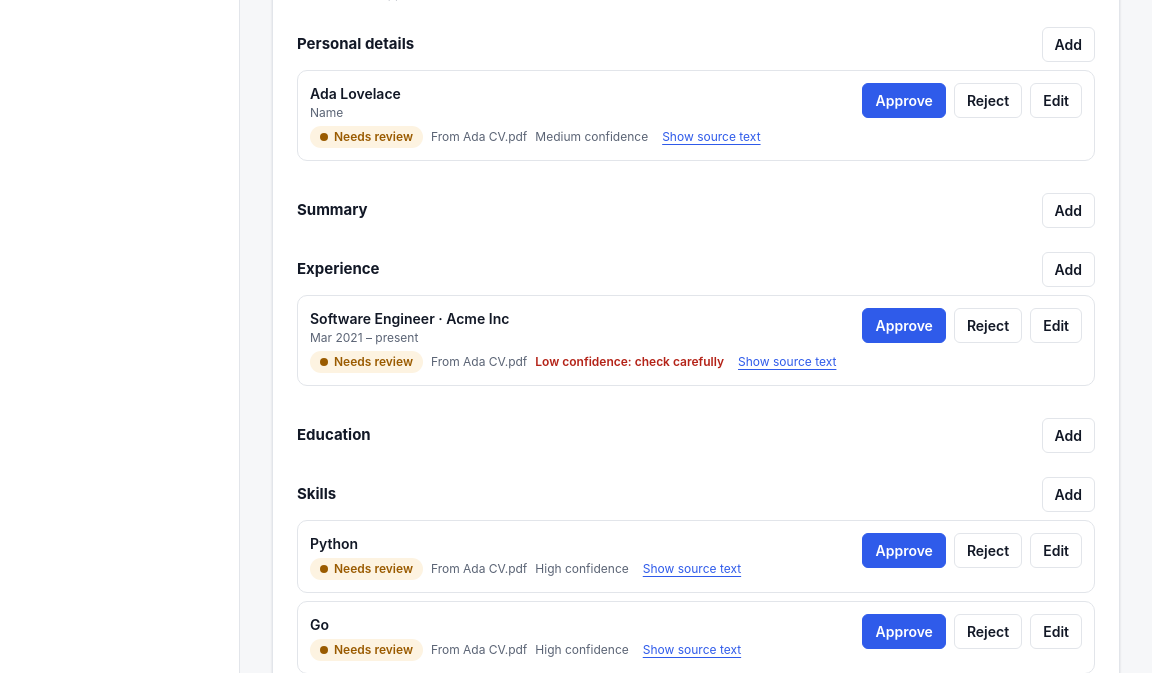
Test: career profile: review › edits a fact with validation, which approves it
(page scrolled)
Click the button with aria-label "Edit: Software Engineer · Acme Inc": click(1056, 326) 1030,308 -> 1082,343
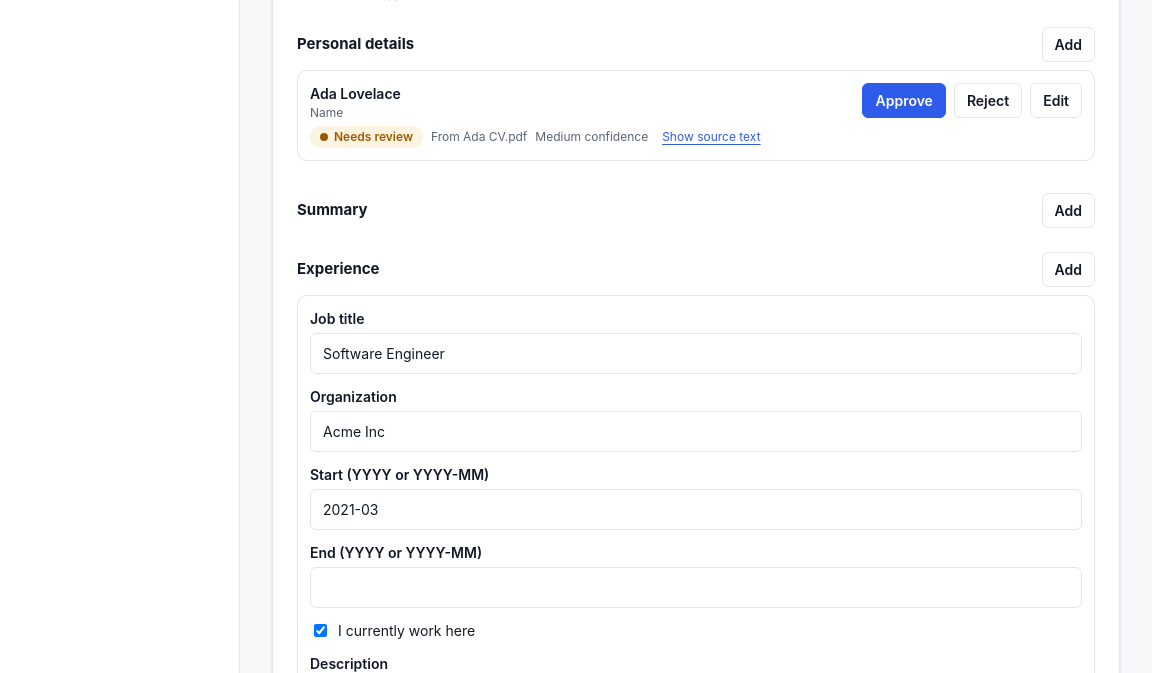
Check: the field labelled "Job title" holds "Software Engineer", box 310,333 -> 1082,374
Replace the text in the field labelled "Start (YYYY or YYYY-MM)" with "March 2021": (696, 510) 310,489 -> 1082,530
(page scrolled)
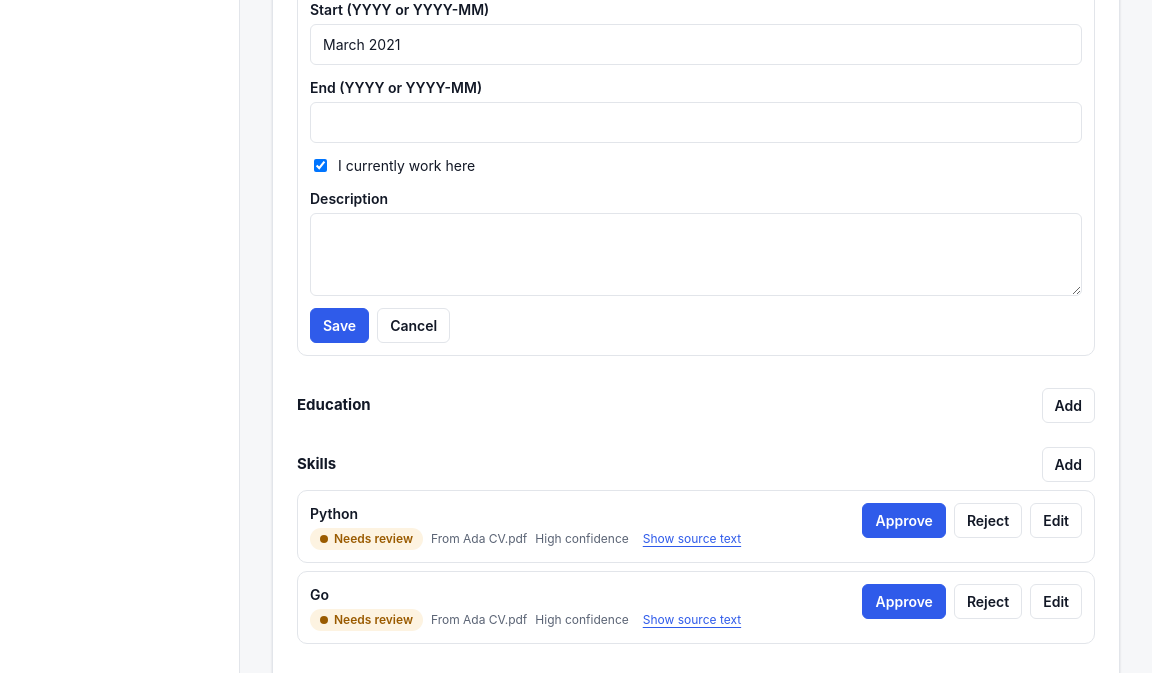
Click the button "Save": click(340, 326) 310,308 -> 369,343
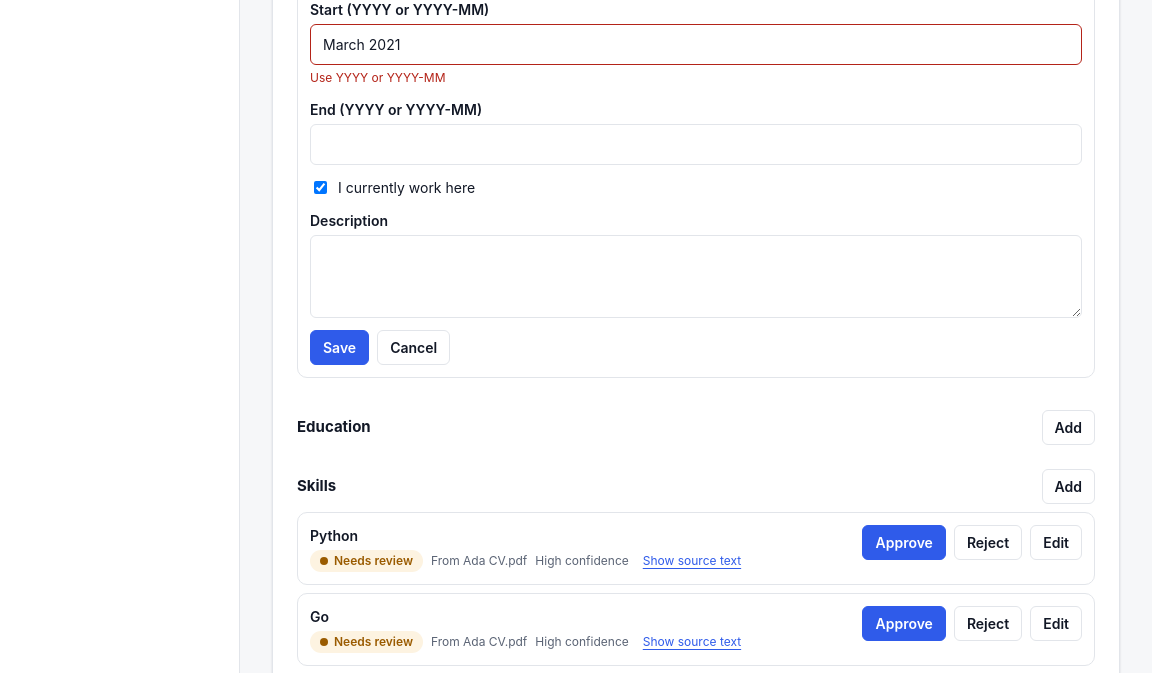
Check: the text "Use YYYY or YYYY-MM" is shown, box 310,70 -> 446,85
Replace the text in the field labelled "Start (YYYY or YYYY-MM)" with "2020-01": (696, 44) 310,24 -> 1082,65
(page scrolled)
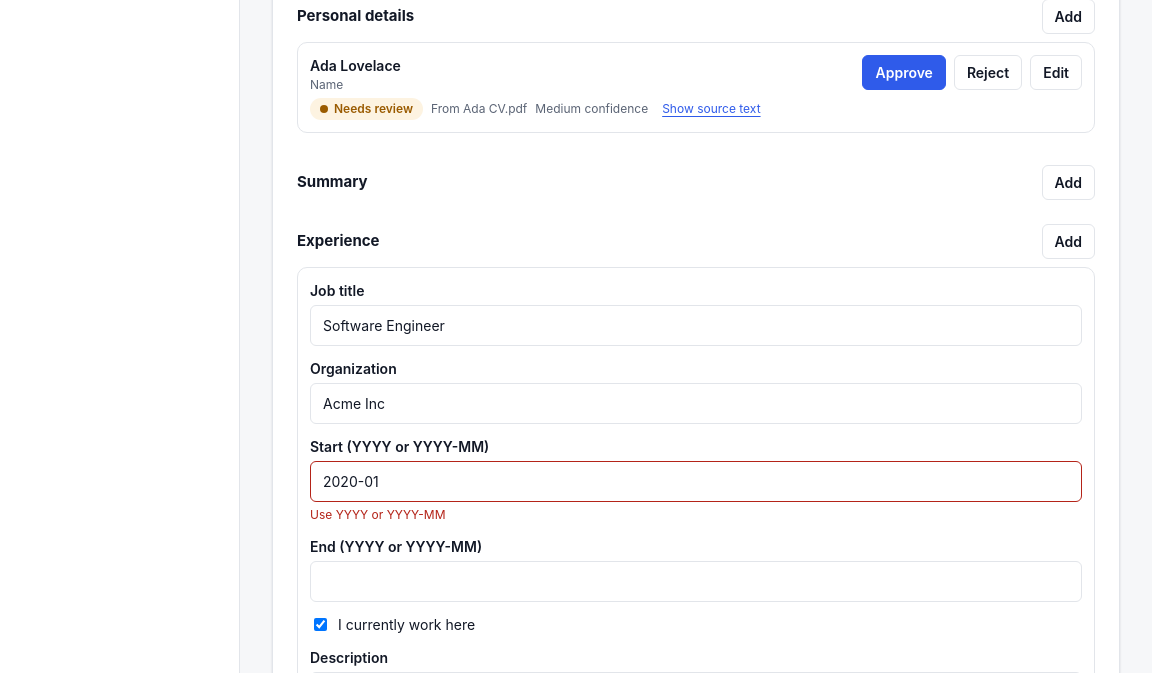
Replace the text in the field labelled "Job title" with "Senior Software Engineer": (696, 326) 310,305 -> 1082,346
(page scrolled)
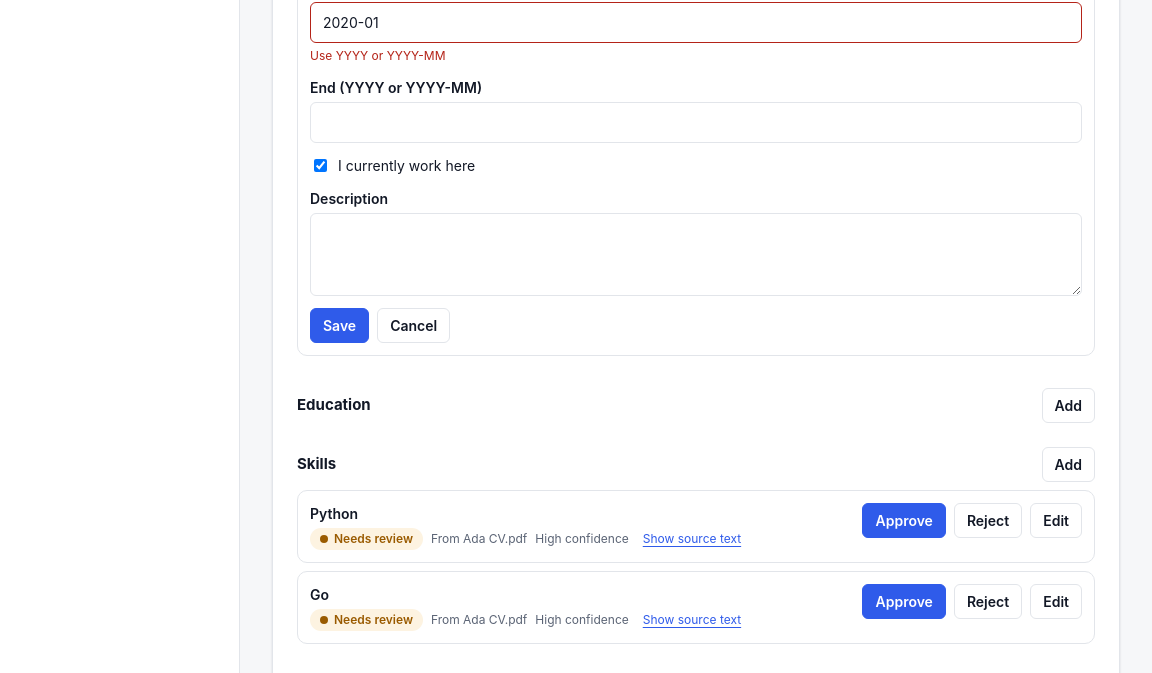
Click the button "Save": click(340, 326) 310,308 -> 369,343
(page scrolled)
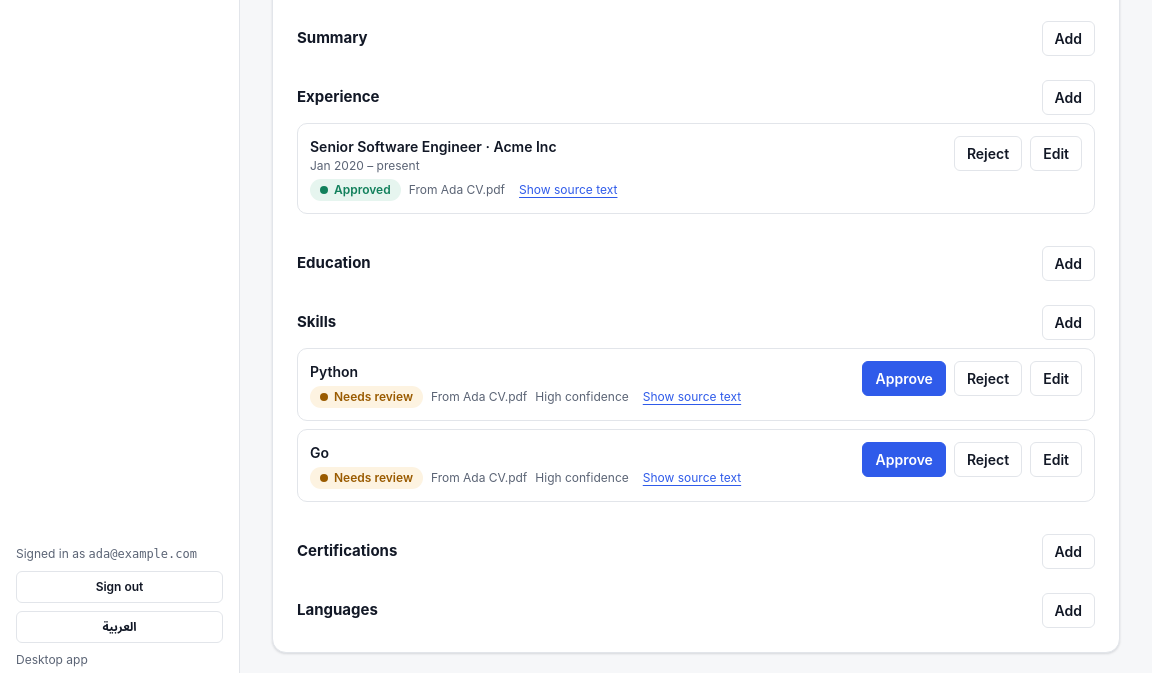
Check: the text "Senior Software Engineer · Acme Inc" is shown, box 310,138 -> 557,155
